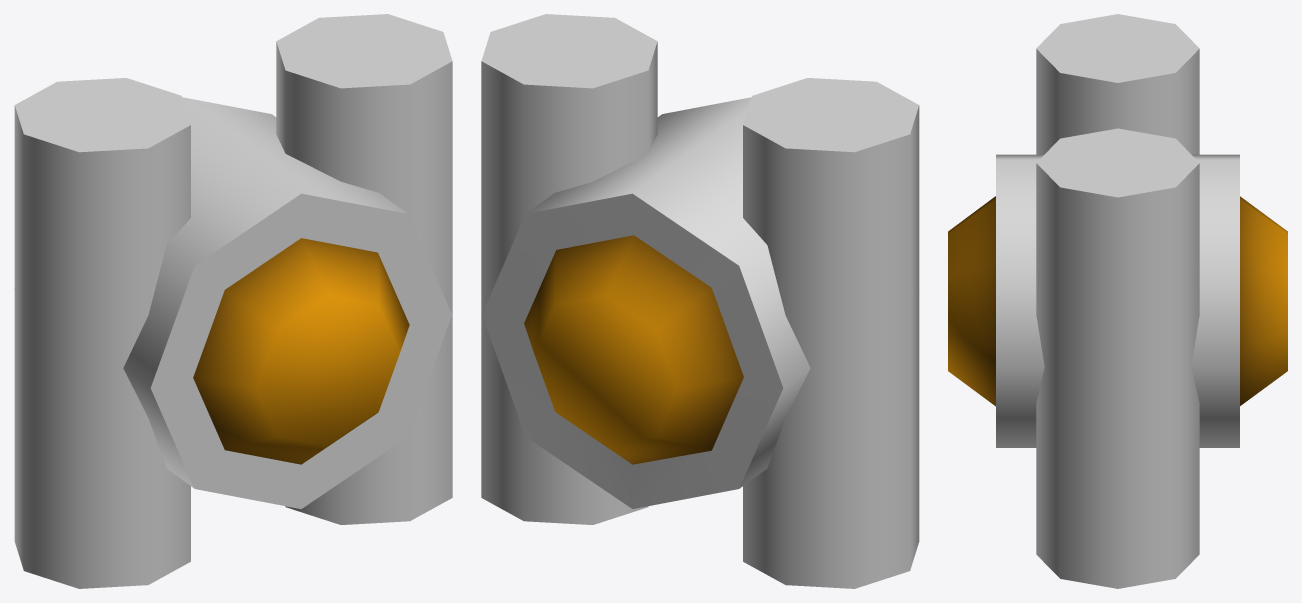
Rendered from obj_dekotora_bulbframing01.fbx.
The picture shows the model from 3 angles, left to right: view 1: azimuth 30°, elevation 25°; view 2: azimuth 150°, elevation 25°; view 3: azimuth 270°, elevation 25°; orthographic projection. The views are drawn at different scales.
Visible parts, largest first — view 1: Cylinder.045, Cylinder.046; view 2: Cylinder.045, Cylinder.046; view 3: Cylinder.045, Cylinder.046.
Boxes of the visible parts, x1,y1,x2,y2 form: Cylinder.045: [14, 14, 452, 588]; Cylinder.046: [123, 97, 451, 508]; Cylinder.045: [481, 14, 919, 588]; Cylinder.046: [482, 97, 810, 508]; Cylinder.045: [1036, 14, 1199, 588]; Cylinder.046: [948, 154, 1287, 447].
Size of the model in its own units: 1.01 by 1 by 0.7864.
